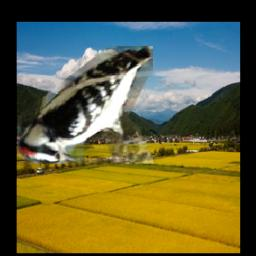Woodpecker: (18, 46, 154, 164)
